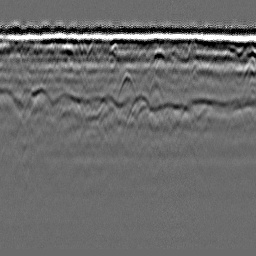cavity: (117, 70, 137, 97)
